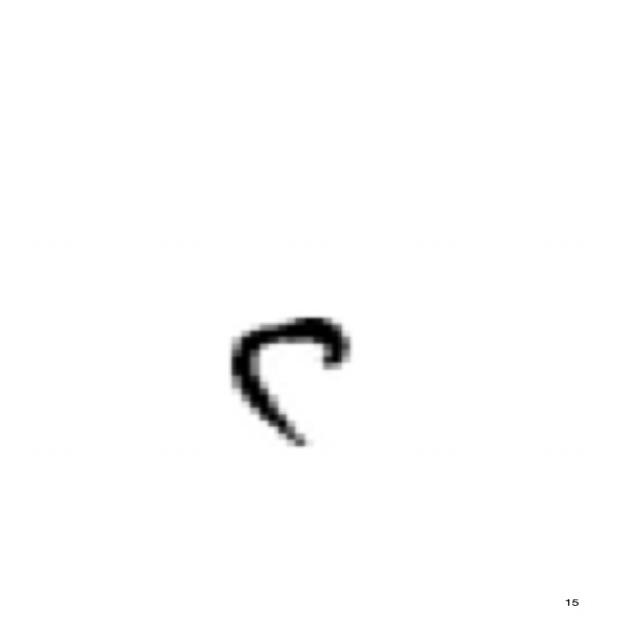2 -two-: (210, 308, 360, 457)
